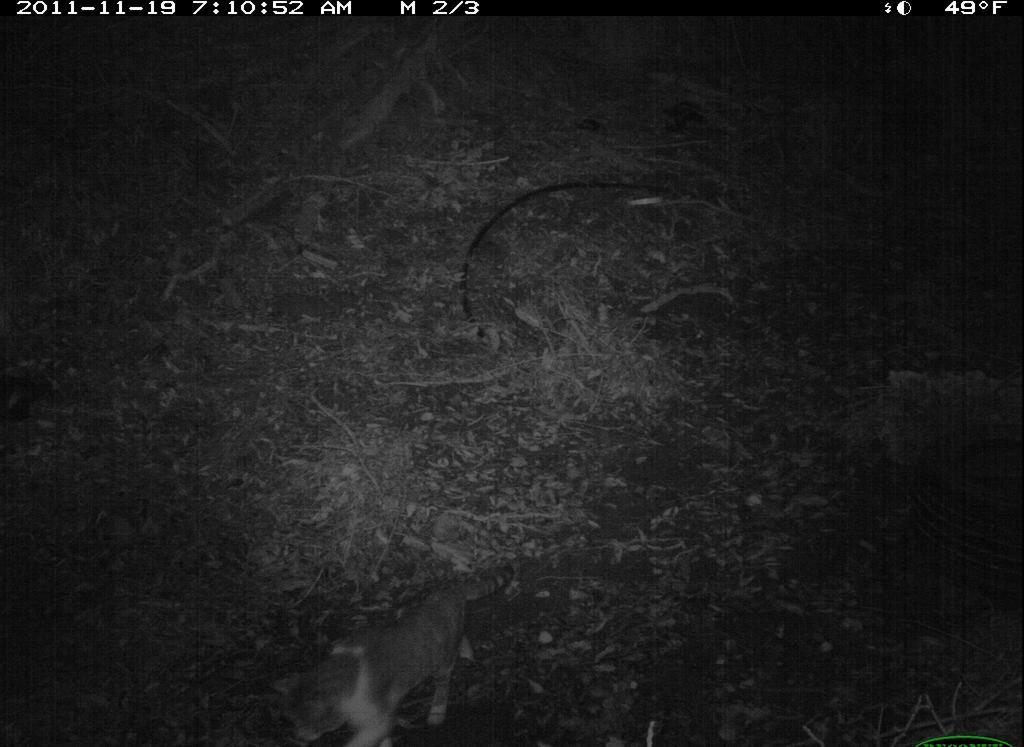cat: (265, 559, 520, 747)
